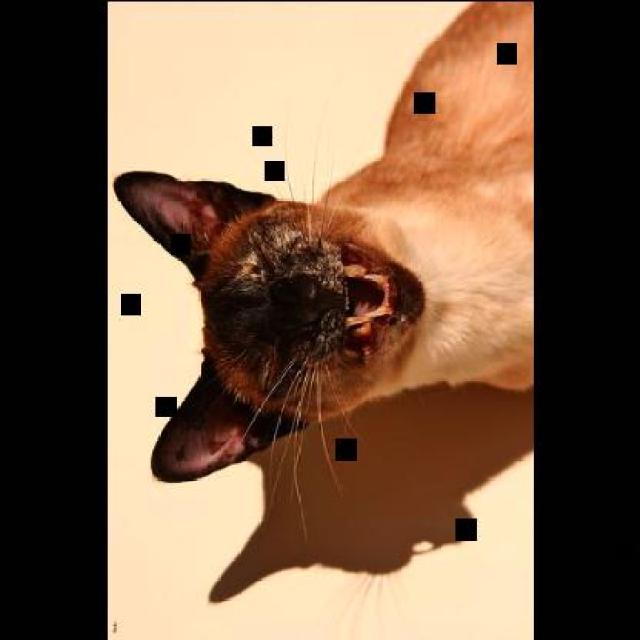unauthorized: (112, 0, 534, 528)
